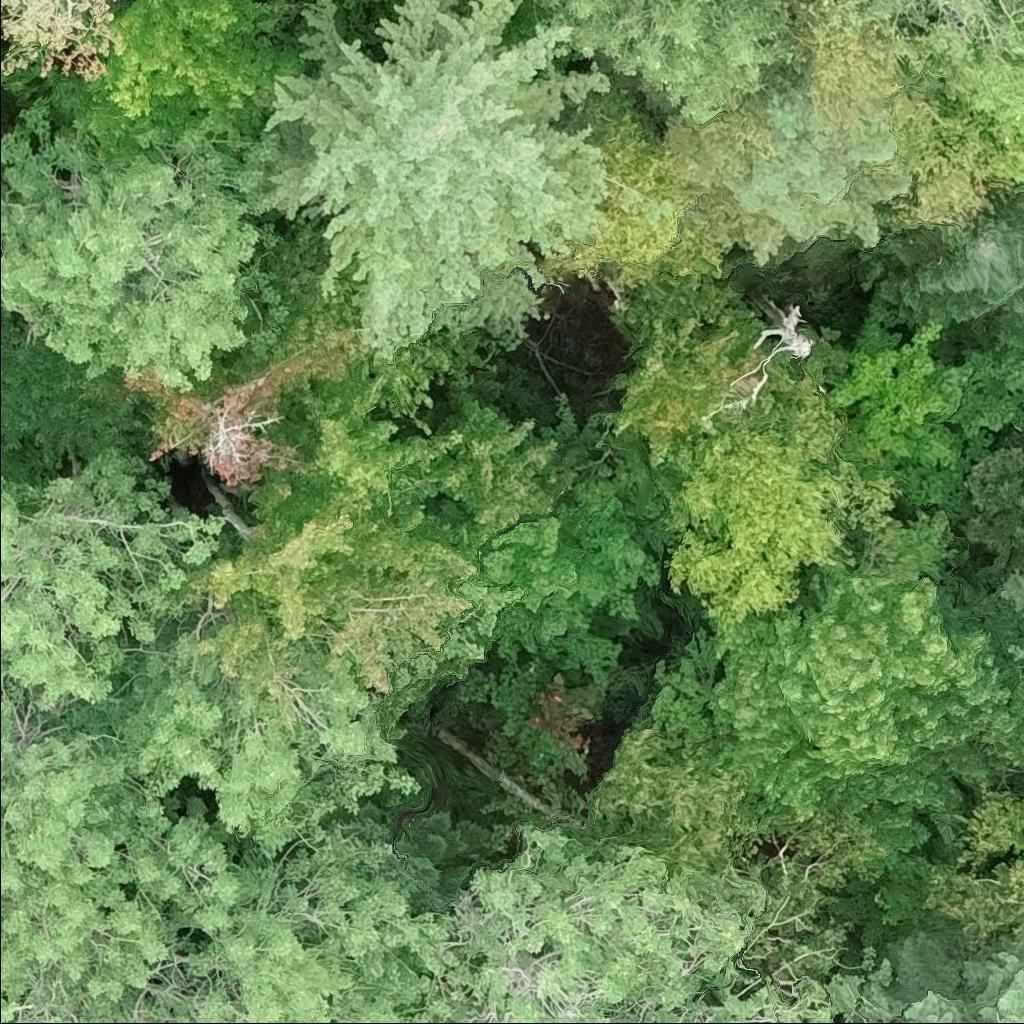crown: (246, 0, 619, 369), (642, 564, 1023, 826), (183, 361, 480, 695), (0, 834, 461, 1023), (0, 100, 291, 391), (72, 623, 426, 859), (446, 823, 846, 1023), (0, 694, 239, 1000), (0, 443, 232, 736), (658, 356, 900, 630), (120, 273, 373, 497), (470, 392, 673, 646), (786, 0, 1005, 234), (538, 84, 767, 304), (45, 0, 317, 173), (719, 59, 918, 267), (506, 0, 791, 124), (603, 275, 779, 467), (397, 396, 579, 557), (821, 316, 971, 475), (872, 186, 1023, 335), (814, 0, 1023, 107), (828, 925, 1023, 1023), (699, 293, 816, 434), (922, 782, 1023, 941), (195, 593, 296, 719), (945, 566, 1023, 676), (968, 92, 1023, 188), (340, 0, 357, 23), (802, 0, 835, 9), (1016, 750, 1023, 775)
